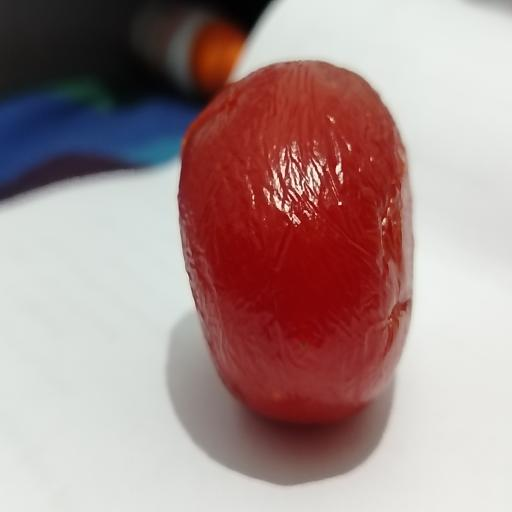spoiled: (178, 61, 413, 423)
